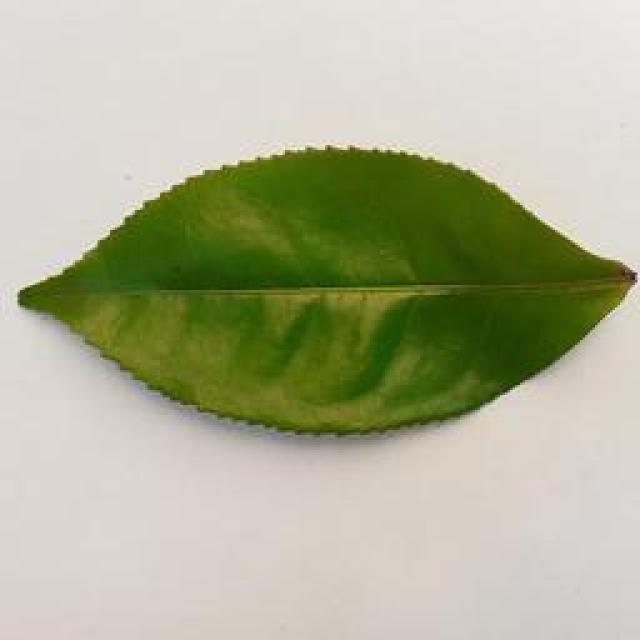Healthy: (18, 145, 637, 438)
